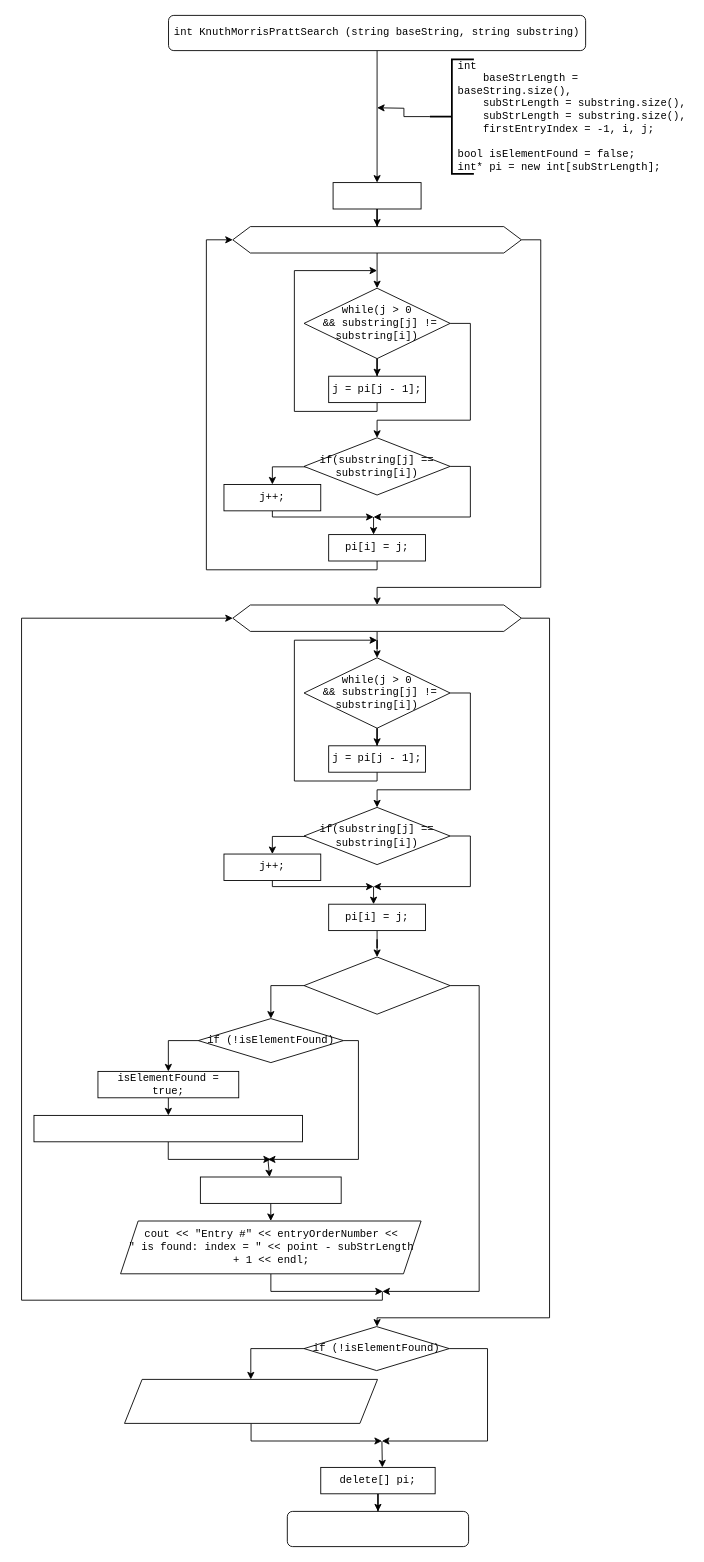
Image size: 704x1562. Some labels were removed from this diagram. The shapes that lost their labels are listed below. From the top down, each one's box as (x1, y1, x2, y2) in pixels, then its label:
(332, 182, 421, 209): pi[0] = 0;
(232, 226, 521, 253): for (i = 1; j = 0; i < subStrLength; i++)
(232, 604, 521, 631): for (i = 1; j = 0; i < baseStrLength; i++)
(303, 956, 450, 1014): if (j == subStrLength)
(33, 1115, 303, 1142): firstEntryIndex = point - subStrLength + 1;
(199, 1176, 341, 1203): entryOrderNumber++;
(124, 1379, 378, 1423): cout << "Error: the string does not contain this substring:" << endl;
(286, 1511, 469, 1547): return firstEntryIndex;
